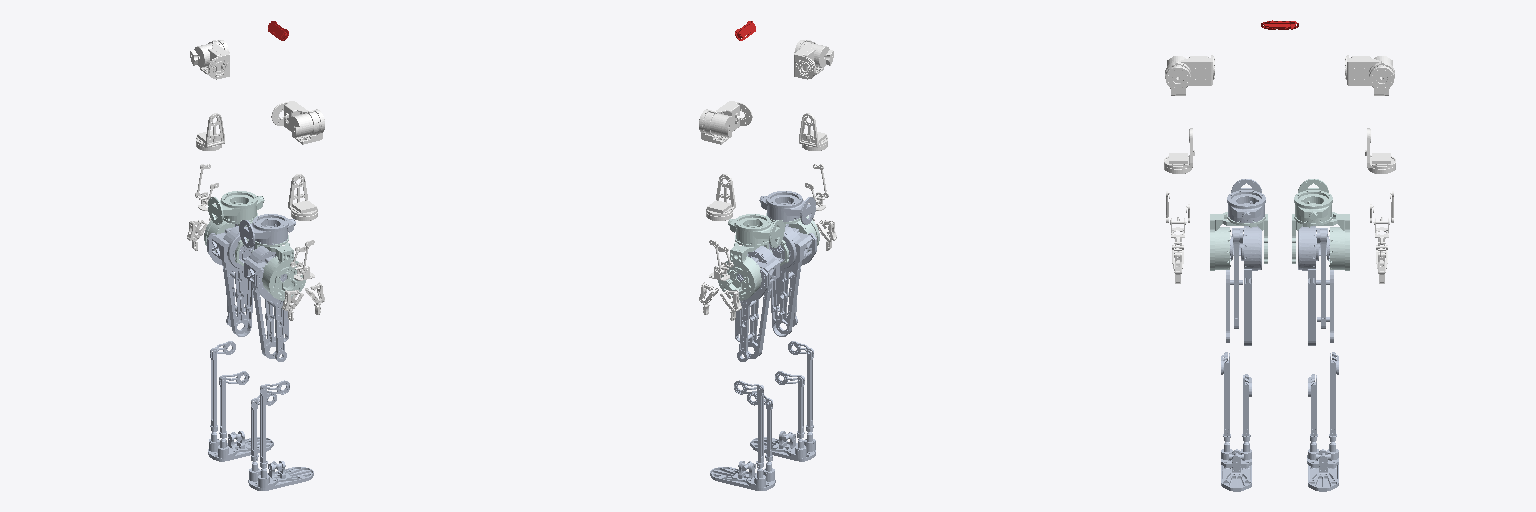
--- Render facts (derived) ---
The picture shows the robot from 3 angles, left to right: view 1: azimuth 30°, elevation 25°; view 2: azimuth 150°, elevation 25°; view 3: azimuth 270°, elevation 25°; orthographic projection.
Robot: kuavo — 44 links, 43 joints (42 continuous, 1 fixed); root link base_link; default pose: all joints at 0.
Links seen in each view (by area): view 1: l_leg_pitch, r_leg_pitch, r_leg_yaw, r_leg_roll, l_leg_roll, r_foot_roll, l_foot_roll, r_forearm_pitch, r_hand_pitch, r_arm_roll, r_arm_pitch, l_forearm_pitch (+1 smaller); view 2: r_leg_pitch, l_leg_pitch, l_leg_yaw, l_leg_roll, r_leg_roll, l_foot_roll, r_foot_roll, l_forearm_pitch, l_hand_pitch, l_arm_roll, l_arm_pitch, r_forearm_pitch (+1 smaller); view 3: l_leg_pitch, r_leg_pitch, r_leg_yaw, l_leg_yaw, l_leg_roll, r_leg_roll, l_foot_roll, r_foot_roll, l_arm_pitch, r_arm_pitch, l_arm_roll, r_arm_roll (+4 smaller).
Boxes of the visible links, x1=… form: l_leg_pitch: x1=207, y1=224, x2=258, y2=336; r_leg_pitch: x1=244, y1=246, x2=288, y2=361; r_leg_yaw: x1=251, y1=235, x2=305, y2=300; r_leg_roll: x1=239, y1=214, x2=295, y2=247; l_leg_roll: x1=208, y1=191, x2=264, y2=224; r_foot_roll: x1=248, y1=461, x2=313, y2=490; l_foot_roll: x1=208, y1=431, x2=273, y2=461; r_forearm_pitch: x1=288, y1=174, x2=317, y2=220; r_hand_pitch: x1=282, y1=262, x2=324, y2=320; r_arm_roll: x1=289, y1=109, x2=324, y2=144; r_arm_pitch: x1=271, y1=101, x2=319, y2=135; l_forearm_pitch: x1=196, y1=113, x2=224, y2=150; r_leg_pitch: x1=765, y1=224, x2=816, y2=336; l_leg_pitch: x1=735, y1=246, x2=779, y2=361; l_leg_yaw: x1=718, y1=235, x2=772, y2=300; l_leg_roll: x1=728, y1=214, x2=784, y2=247; r_leg_roll: x1=759, y1=191, x2=815, y2=224; l_foot_roll: x1=710, y1=461, x2=775, y2=490; r_foot_roll: x1=750, y1=431, x2=815, y2=461; l_forearm_pitch: x1=706, y1=174, x2=735, y2=220; l_hand_pitch: x1=699, y1=262, x2=741, y2=320; l_arm_roll: x1=699, y1=109, x2=734, y2=144; l_arm_pitch: x1=704, y1=101, x2=752, y2=135; r_forearm_pitch: x1=799, y1=113, x2=827, y2=150; l_leg_pitch: x1=1298, y1=226, x2=1333, y2=345; r_leg_pitch: x1=1226, y1=226, x2=1261, y2=345; r_leg_yaw: x1=1210, y1=212, x2=1267, y2=270; l_leg_yaw: x1=1292, y1=212, x2=1349, y2=270; l_leg_roll: x1=1294, y1=179, x2=1332, y2=222; r_leg_roll: x1=1227, y1=179, x2=1265, y2=222; l_foot_roll: x1=1307, y1=443, x2=1338, y2=491; r_foot_roll: x1=1221, y1=443, x2=1251, y2=491; l_arm_pitch: x1=1345, y1=55, x2=1394, y2=85; r_arm_pitch: x1=1165, y1=55, x2=1214, y2=85; l_arm_roll: x1=1369, y1=56, x2=1394, y2=95; r_arm_roll: x1=1165, y1=56, x2=1190, y2=95.
Bounding box of the posed robot: 0.1955 × 0.6029 × 1.33 m (x, y, z).
37 mesh visuals loaded from 44 distinct referenced files (37 binary STL); not drawn: 7 (reference not matched to a file when rendering).

robot.urdf — kuavo:
<?xml version="1.0" encoding="utf-8"?>
<!-- This URDF was automatically created by SolidWorks to URDF Exporter! Originally created by Stephen Brawner ([email redacted]) 
     Commit Version: 1.6.0-4-g7f85cfe  Build Version: 1.6.7995.38578
     For more information, please see http://wiki.ros.org/sw_urdf_exporter -->
<robot
  name="kuavo">
  <link
    name="base_link">
    <inertial>
      <origin
        xyz="-0.00699293960383802 0.00155633220268026 0.152865943474551"
        rpy="0 0 0" />
      <mass
        value="7.71324827879796" />
      <inertia
        ixx="0.0426865291658434"
        ixy="1.85724164379468E-06"
        ixz="0.0010941107421191"
        iyy="0.020412125396821"
        iyz="-3.14875771284261E-06"
        izz="0.0372747742844986" />
    </inertial>
    <visual>
      <origin
        xyz="0 0 0"
        rpy="0 0 0" />
      <geometry>
        <mesh
          filename="./meshes/base_link.STL" />
      </geometry>
      <material
        name="">
        <color
          rgba="0.862745098039216 0.933333333333333 0.929411764705882 1" />
      </material>
    </visual>
    <collision>
      <origin
        xyz="0 0 0"
        rpy="0 0 0" />
      <geometry>
        <mesh
          filename="./meshes/base_link.STL" />
      </geometry>
    </collision>
  </link>
  <link
    name="l_leg_roll">
    <inertial>
      <origin
        xyz="0.0607642758367597 0.00014034128720411 0.00228371917512799"
        rpy="0 0 0" />
      <mass
        value="0.118529537524385" />
      <inertia
        ixx="0.000100527370735922"
        ixy="-1.21001269445094E-09"
        ixz="-5.73994022636998E-06"
        iyy="0.000266846737510275"
        iyz="-1.09965529112337E-07"
        izz="0.000326428442604199" />
    </inertial>
    <visual>
      <origin
        xyz="0 0 0"
        rpy="0 0 0" />
      <geometry>
        <mesh
          filename="./meshes/l_leg_roll.STL" />
      </geometry>
      <material
        name="">
        <color
          rgba="0.862745098039216 0.933333333333333 0.929411764705882 1" />
      </material>
    </visual>
    <collision>
      <origin
        xyz="0 0 0"
        rpy="0 0 0" />
      <geometry>
        <mesh
          filename="./meshes/l_leg_roll.STL" />
      </geometry>
    </collision>
  </link>
  <joint
    name="l_leg_roll"
    type="continuous">
    <origin
      xyz="-0.0756149468145449 0.087 -0.0720754569616772"
      rpy="0 0 0" />
    <parent
      link="base_link" />
    <child
      link="l_leg_roll" />
    <axis
      xyz="-1 0 0" />
  </joint>
  <link
    name="l_leg_yaw">
    <inertial>
      <origin
        xyz="0.000290902697264877 0.0405087424467619 -0.100846923361789"
        rpy="0 0 0" />
      <mass
        value="0.20405278020544" />
      <inertia
        ixx="0.000304319732135481"
        ixy="6.81277324993593E-07"
        ixz="5.14353295201488E-07"
        iyy="0.000364082147695825"
        iyz="2.16417948537574E-06"
        izz="0.000267287713044087" />
    </inertial>
    <visual>
      <origin
        xyz="0 0 0"
        rpy="0 0 0" />
      <geometry>
        <mesh
          filename="./meshes/l_leg_yaw.STL" />
      </geometry>
      <material
        name="">
        <color
          rgba="0.862745098039216 0.933333333333333 0.929411764705882 1" />
      </material>
    </visual>
    <collision>
      <origin
        xyz="0 0 0"
        rpy="0 0 0" />
      <geometry>
        <mesh
          filename="./meshes/l_leg_yaw.STL" />
      </geometry>
    </collision>
  </link>
  <joint
    name="l_leg_yaw"
    type="continuous">
    <origin
      xyz="0.0735 0 0.0130000000000001"
      rpy="0 0 0" />
    <parent
      link="l_leg_roll" />
    <child
      link="l_leg_yaw" />
    <axis
      xyz="0 0 1" />
  </joint>
  <link
    name="l_leg_pitch">
    <inertial>
      <origin
        xyz="-0.00528235933691826 -0.0878849862537982 -0.056800998667162"
        rpy="0 0 0" />
      <mass
        value="0.45065011418642" />
      <inertia
        ixx="0.00148456678733155"
        ixy="-2.29184752662021E-05"
        ixz="0.000131476982175566"
        iyy="0.00177807990369305"
        iyz="7.48554604302084E-06"
        izz="0.000394925298656241" />
    </inertial>
    <visual>
      <origin
        xyz="0 0 0"
        rpy="0 0 0" />
      <geometry>
        <mesh
          filename="./meshes/l_leg_pitch.STL" />
      </geometry>
      <material
        name="">
        <color
          rgba="0.807843137254902 0.843137254901961 0.905882352941176 1" />
      </material>
    </visual>
    <collision>
      <origin
        xyz="0 0 0"
        rpy="0 0 0" />
      <geometry>
        <mesh
          filename="./meshes/l_leg_pitch.STL" />
      </geometry>
    </collision>
  </link>
  <joint
    name="l_leg_pitch"
    type="continuous">
    <origin
      xyz="0 0.0939999999999999 -0.13645"
      rpy="0 0 0" />
    <parent
      link="l_leg_yaw" />
    <child
      link="l_leg_pitch" />
    <axis
      xyz="0 -1 0" />
  </joint>
  <link
    name="l_knee">
    <inertial>
      <origin
        xyz="0.000868873637859806 -5.03011046766588E-05 -0.13314742049396"
        rpy="0 0 0" />
      <mass
        value="0.817175320465059" />
      <inertia
        ixx="0.00786383933470876"
        ixy="-3.13623718617422E-08"
        ixz="-7.89544117443064E-05"
        iyy="0.0081080818905141"
        iyz="-6.80654926871359E-05"
        izz="0.000441233410542845" />
    </inertial>
    <visual>
      <origin
        xyz="0 0 0"
        rpy="0 0 0" />
      <geometry>
        <mesh
          filename="./meshes/l_knee.STL" />
      </geometry>
      <material
        name="">
        <color
          rgba="0.898039215686275 0.917647058823529 0.929411764705882 1" />
      </material>
    </visual>
    <collision>
      <origin
        xyz="0 0 0"
        rpy="0 0 0" />
      <geometry>
        <mesh
          filename="./meshes/l_knee.STL" />
      </geometry>
    </collision>
  </link>
  <joint
    name="l_knee"
    type="continuous">
    <origin
      xyz="0.00413596009601052 -0.0686389599620252 -0.249965785326798"
      rpy="0 0 0" />
    <parent
      link="l_leg_pitch" />
    <child
      link="l_knee" />
    <axis
      xyz="0 1 0" />
  </joint>
  <link
    name="l_foot_pitch">
    <inertial>
      <origin
        xyz="-2.2094915482114E-07 -0.0210002209491548 0.000142421968554962"
        rpy="0 0 0" />
      <mass
        value="0.00898868764931505" />
      <inertia
        ixx="8.64757693496474E-07"
        ixy="4.38814003822459E-16"
        ixz="3.49395618884054E-11"
        iyy="8.64757693496479E-07"
        iyz="-3.54041160032427E-11"
        izz="1.52124214524266E-06" />
    </inertial>
    <visual>
      <origin
        xyz="0 0 0"
        rpy="0 0 0" />
      <geometry>
        <mesh
          filename="./meshes/l_foot_pitch.STL" />
      </geometry>
      <material
        name="">
        <color
          rgba="0.807843137254902 0.843137254901961 0.905882352941176 1" />
      </material>
    </visual>
    <collision>
      <origin
        xyz="0 0 0"
        rpy="0 0 0" />
      <geometry>
        <mesh
          filename="./meshes/l_foot_pitch.STL" />
      </geometry>
    </collision>
  </link>
  <joint
    name="l_foot_pitch"
    type="continuous">
    <origin
      xyz="9.39839333040909E-05 0.0209999999999999 -0.346142421968556"
      rpy="0 0 0" />
    <parent
      link="l_knee" />
    <child
      link="l_foot_pitch" />
    <axis
      xyz="0 -1 0" />
  </joint>
  <link
    name="l_foot_roll">
    <inertial>
      <origin
        xyz="-0.0432253086252035 -8.83109141272542E-06 -0.0231900309646781"
        rpy="0 0 0" />
      <mass
        value="0.48595336841054" />
      <inertia
        ixx="0.000157873471834251"
        ixy="1.96472635084532E-08"
        ixz="2.65605381022489E-06"
        iyy="0.000645275398662566"
        iyz="1.31456982241222E-08"
        izz="0.000765587215075718" />
    </inertial>
    <visual>
      <origin
        xyz="0 0 0"
        rpy="0 0 0" />
      <geometry>
        <mesh
          filename="./meshes/l_foot_roll.STL" />
      </geometry>
      <material
        name="">
        <color
          rgba="0.807843137254902 0.843137254901961 0.905882352941176 1" />
      </material>
    </visual>
    <collision>
      <origin
        xyz="0 0 0"
        rpy="0 0 0" />
      <geometry>
        <mesh
          filename="./meshes/l_foot_roll.STL" />
      </geometry>
    </collision>
  </link>
  <joint
    name="l_foot_roll"
    type="continuous">
    <origin
      xyz="0.021 -0.021 0.000142421968555073"
      rpy="0 0 0" />
    <parent
      link="l_foot_pitch" />
    <child
      link="l_foot_roll" />
    <axis
      xyz="-1 0 0" />
  </joint>
  <link
    name="l_l_bar">
    <inertial>
      <origin
        xyz="-0.0181620534088889 0.00538550541831453 0.00188897487292894"
        rpy="0 0 0" />
      <mass
        value="0.00874829869457794" />
      <inertia
        ixx="1.10769540266514E-06"
        ixy="-5.91415258727675E-07"
        ixz="4.29488265882082E-07"
        iyy="5.99983084859914E-06"
        iyz="6.15112516111373E-08"
        izz="5.19245227970593E-06" />
    </inertial>
    <visual>
      <origin
        xyz="0 0 0"
        rpy="0 0 0" />
      <geometry>
        <mesh
          filename="./meshes/l_l_bar.STL" />
      </geometry>
      <material
        name="">
        <color
          rgba="0.807843137254902 0.843137254901961 0.905882352941176 1" />
      </material>
    </visual>
    <collision>
      <origin
        xyz="0 0 0"
        rpy="0 0 0" />
      <geometry>
        <mesh
          filename="./meshes/l_l_bar.STL" />
      </geometry>
    </collision>
  </link>
  <joint
    name="l_l_bar"
    type="continuous">
    <origin
      xyz="9.39839333040753E-05 0.0294999999999999 -0.090000000000001"
      rpy="0 0 0" />
    <parent
      link="l_knee" />
    <child
      link="l_l_bar" />
    <axis
      xyz="0 -1 0" />
  </joint>
  <link
    name="l_l_tendon">
    <inertial>
      <origin
        xyz="0.00118321709757755 3.75294202364929E-06 -0.20744528844336"
        rpy="0 0 0" />
      <mass
        value="0.083522124317674" />
      <inertia
        ixx="0.000108457869310121"
        ixy="6.02846811569308E-13"
        ixz="3.21348766559881E-09"
        iyy="0.000108256478541275"
        iyz="-5.12951685911342E-08"
        izz="3.33663310062301E-06" />
    </inertial>
    <visual>
      <origin
        xyz="0 0 0"
        rpy="0 0 0" />
      <geometry>
        <mesh
          filename="./meshes/l_l_tendon.STL" />
      </geometry>
      <material
        name="">
        <color
          rgba="0.807843137254902 0.843137254901961 0.905882352941176 1" />
      </material>
    </visual>
    <collision>
      <origin
        xyz="0 0 0"
        rpy="0 0 0" />
      <geometry>
        <mesh
          filename="./meshes/l_l_tendon.STL" />
      </geometry>
    </collision>
  </link>
  <joint
    name="l_l_tendon"
    type="continuous">
    <origin
      xyz="-0.0576888204074241 -0.00450000000000017 0.00599999999999978"
      rpy="0 0 0" />
    <parent
      link="l_l_bar" />
    <child
      link="l_l_tendon" />
    <axis
      xyz="0 1 0" />
  </joint>
  <link
    name="l_r_bar">
    <inertial>
      <origin
        xyz="-0.0181620475591471 -0.00340146093872844 0.00188896088462942"
        rpy="0 0 0" />
      <mass
        value="0.00874829655091912" />
      <inertia
        ixx="1.10769463312904E-06"
        ixy="5.9141495517061E-07"
        ixz="4.29484605237304E-07"
        iyy="5.99982880791329E-06"
        iyz="-6.15105156434383E-08"
        izz="5.19245102488259E-06" />
    </inertial>
    <visual>
      <origin
        xyz="0 0 0"
        rpy="0 0 0" />
      <geometry>
        <mesh
          filename="./meshes/l_r_bar.STL" />
      </geometry>
      <material
        name="">
        <color
          rgba="0.807843137254902 0.843137254901961 0.905882352941176 1" />
      </material>
    </visual>
    <collision>
      <origin
        xyz="0 0 0"
        rpy="0 0 0" />
      <geometry>
        <mesh
          filename="./meshes/l_r_bar.STL" />
      </geometry>
    </collision>
  </link>
  <joint
    name="l_r_bar"
    type="continuous">
    <origin
      xyz="9.39839333042539E-05 -0.0295 -0.153000000000001"
      rpy="0 0 0" />
    <parent
      link="l_knee" />
    <child
      link="l_r_bar" />
    <axis
      xyz="0 1 0" />
  </joint>
  <link
    name="l_r_tendon">
    <inertial>
      <origin
        xyz="0.00127016481106113 -0.000442399471844768 -0.157756039462114"
        rpy="0 0 0" />
      <mass
        value="0.0780668768936421" />
      <inertia
        ixx="4.62186588509114E-05"
        ixy="-1.94286496924929E-08"
        ixz="-2.70858374718146E-09"
        iyy="4.61278857103081E-05"
        iyz="3.66611708941701E-08"
        izz="3.1548728466647E-06" />
    </inertial>
    <visual>
      <origin
        xyz="0 0 0"
        rpy="0 0 0" />
      <geometry>
        <mesh
          filename="./meshes/l_r_tendon.STL" />
      </geometry>
      <material
        name="">
        <color
          rgba="0.807843137254902 0.843137254901961 0.905882352941176 1" />
      </material>
    </visual>
    <collision>
      <origin
        xyz="0 0 0"
        rpy="0 0 0" />
      <geometry>
        <mesh
          filename="./meshes/l_r_tendon.STL" />
      </geometry>
    </collision>
  </link>
  <joint
    name="l_r_tendon"
    type="continuous">
    <origin
      xyz="-0.0576888204074239 0.00508602348130947 0.00600000000000012"
      rpy="0 0 0" />
    <parent
      link="l_r_bar" />
    <child
      link="l_r_tendon" />
    <axis
      xyz="0 -1 0" />
  </joint>
  <link
    name="r_leg_roll">
    <inertial>
      <origin
        xyz="0.0607646044341523 -0.000140365546816248 0.00228377101431822"
        rpy="0 0 0" />
      <mass
        value="0.11853067519234" />
      <inertia
        ixx="0.000100528224800769"
        ixy="8.59267223920867E-10"
        ixz="-5.7400764839374E-06"
        iyy="0.000266849167485496"
        iyz="1.09990636769441E-07"
        izz="0.000326431795353994" />
    </inertial>
    <visual>
      <origin
        xyz="0 0 0"
        rpy="0 0 0" />
      <geometry>
        <mesh
          filename="./meshes/r_leg_roll.STL" />
      </geometry>
      <material
        name="">
        <color
          rgba="0.807843137254902 0.843137254901961 0.905882352941176 1" />
      </material>
    </visual>
    <collision>
      <origin
        xyz="0 0 0"
        rpy="0 0 0" />
      <geometry>
        <mesh
          filename="./meshes/r_leg_roll.STL" />
      </geometry>
    </collision>
  </link>
  <joint
    name="r_leg_roll"
    type="continuous">
    <origin
      xyz="-0.0756149468145449 -0.087 -0.0720754569616772"
      rpy="0 0 0" />
    <parent
      link="base_link" />
    <child
      link="r_leg_roll" />
    <axis
      xyz="-1 0 0" />
  </joint>
  <link
    name="r_leg_yaw">
    <inertial>
      <origin
        xyz="0.000290901694932051 -0.0405086843275825 -0.100847259224443"
        rpy="0 0 0" />
      <mass
        value="0.204051628397563" />
      <inertia
        ixx="0.000304316594072443"
        ixy="-6.81313422907994E-07"
        ixz="5.14348465322562E-07"
        iyy="0.000364082222889467"
        iyz="-2.16425891305065E-06"
        izz="0.000267284560559922" />
    </inertial>
    <visual>
      <origin
        xyz="0 0 0"
        rpy="0 0 0" />
      <geometry>
        <mesh
          filename="./meshes/r_leg_yaw.STL" />
      </geometry>
      <material
        name="">
        <color
          rgba="0.862745098039216 0.933333333333333 0.929411764705882 1" />
      </material>
    </visual>
    <collision>
      <origin
        xyz="0 0 0"
        rpy="0 0 0" />
      <geometry>
        <mesh
          filename="./meshes/r_leg_yaw.STL" />
      </geometry>
    </collision>
  </link>
  <joint
    name="r_leg_yaw"
    type="continuous">
    <origin
      xyz="0.0735 0 0.0130000000000001"
      rpy="0 0 0" />
    <parent
      link="r_leg_roll" />
    <child
      link="r_leg_yaw" />
    <axis
      xyz="0 0 1" />
  </joint>
  <link
    name="r_leg_pitch">
    <inertial>
      <origin
        xyz="-0.00530844800069375 0.0879625104980525 -0.0562054035446188"
        rpy="0 0 0" />
      <mass
        value="0.448539615819603" />
      <inertia
        ixx="0.00148436919411102"
        ixy="2.29187023974564E-05"
        ixz="0.000131477003903541"
        iyy="0.00177802513573774"
        iyz="-7.48524907415416E-06"
        izz="0.000394727717573666" />
    </inertial>
    <visual>
      <origin
        xyz="0 0 0"
        rpy="0 0 0" />
      <geometry>
        <mesh
          filename="./meshes/r_leg_pitch.STL" />
      </geometry>
      <material
        name="">
        <color
          rgba="0.807843137254902 0.843137254901961 0.905882352941176 1" />
      </material>
    </visual>
    <collision>
      <origin
        xyz="0 0 0"
        rpy="0 0 0" />
      <geometry>
        <mesh
          filename="./meshes/r_leg_pitch.STL" />
      </geometry>
    </collision>
  </link>
  <joint
    name="r_leg_pitch"
    type="continuous">
    <origin
      xyz="0 -0.094 -0.13645"
      rpy="0 0 0" />
    <parent
      link="r_leg_yaw" />
    <child
      link="r_leg_pitch" />
    <axis
      xyz="0 -1 0" />
  </joint>
  <link
    name="r_knee">
    <inertial>
      <origin
        xyz="0.000566315767979653 -0.000357175271787927 -0.138852368476045"
        rpy="0 0 0" />
      <mass
        value="0.345443991337626" />
      <inertia
        ixx="0.00281310613866549"
        ixy="1.11070732712115E-08"
        ixz="-2.80899108975025E-05"
        iyy="0.00291126127187274"
        iyz="2.42218525823218E-05"
        izz="0.000171958211692171" />
    </inertial>
    <visual>
      <origin
        xyz="0 0 0"
        rpy="0 0 0" />
      <geometry>
        <mesh
          filename="./meshes/r_knee.STL" />
      </geometry>
      <material
        name="">
        <color
          rgba="0.807843137254902 0.843137254901961 0.905882352941176 1" />
      </material>
    </visual>
    <collision>
      <origin
        xyz="0 0 0"
        rpy="0 0 0" />
      <geometry>
        <mesh
          filename="./meshes/r_knee.STL" />
      </geometry>
    </collision>
  </link>
  <joint
    name="r_knee"
    type="continuous">
    <origin
      xyz="0.00413596009601069 0.0685500000000013 -0.249965785326798"
      rpy="0 0 0" />
    <parent
      link="r_leg_pitch" />
    <child
      link="r_knee" />
    <axis
      xyz="0 -1 0" />
  </joint>
  <link
    name="r_foot_pitch">
    <inertial>
      <origin
        xyz="-2.20949154776037E-07 0.0210002209491547 -1.11022302462516E-16"
        rpy="0 0 0" />
      <mass
        value="0.00898868764931501" />
      <inertia
        ixx="8.64757693496473E-07"
        ixy="-4.38813261088375E-16"
        ixz="-3.4939561888581E-11"
        iyy="8.64757693496477E-07"
        iyz="-3.44750077743079E-11"
        izz="1.52124214524266E-06" />
    </inertial>
    <visual>
      <origin
        xyz="0 0 0"
        rpy="0 0 0" />
      <geometry>
        <mesh
          filename="./meshes/r_foot_pitch.STL" />
      </geometry>
      <material
        name="">
        <color
          rgba="0.807843137254902 0.843137254901961 0.905882352941176 1" />
      </material>
    </visual>
    <collision>
      <origin
        xyz="0 0 0"
        rpy="0 0 0" />
      <geometry>
        <mesh
          filename="./meshes/r_foot_pitch.STL" />
      </geometry>
    </collision>
  </link>
  <joint
    name="r_foot_pitch"
    type="continuous">
    <origin
      xyz="0 -0.021 -0.346000000000001"
      rpy="0 0 0" />
    <parent
      link="r_knee" />
    <child
      link="r_foot_pitch" />
    <axis
      xyz="0 -1 0" />
  </joint>
  <link
    name="r_foot_roll">
    <inertial>
      <origin
        xyz="-0.0480333310327909 6.50581714088661E-06 -0.0208399753329805"
        rpy="0 0 0" />
      <mass
        value="0.235882377040623" />
      <inertia
        ixx="7.44704948330087E-05"
        ixy="-1.32306351261624E-08"
        ixz="2.64137221389746E-06"
        iyy="0.000241939144027172"
        iyz="-4.67780047970378E-09"
        izz="0.000291936005980864" />
    </inertial>
    <visual>
      <origin
        xyz="0 0 0"
        rpy="0 0 0" />
      <geometry>
        <mesh
          filename="./meshes/r_foot_roll.STL" />
      </geometry>
      <material
        name="">
        <color
          rgba="0.807843137254902 0.843137254901961 0.905882352941176 1" />
      </material>
    </visual>
    <collision>
      <origin
        xyz="0 0 0"
        rpy="0 0 0" />
      <geometry>
        <mesh
          filename="./meshes/r_foot_roll.STL" />
      </geometry>
    </collision>
  </link>
  <joint
    name="r_foot_roll"
    type="continuous">
    <origin
      xyz="0.021 0.0209999999999999 0"
      rpy="0 0 0" />
    <parent
      link="r_foot_pitch" />
    <child
      link="r_foot_roll" />
    <axis
      xyz="-1 0 0" />
  </joint>
  <link
    name="r_r_bar">
    <inertial>
      <origin
        xyz="-0.0181620509501376 -0.0054502400147324 0.00188897513882791"
        rpy="0 0 0" />
      <mass
        value="0.00874829774758129" />
      <inertia
        ixx="1.10769527904973E-06"
        ixy="5.91415050956591E-07"
        ixz="4.29488315443609E-07"
        iyy="5.99983036821144E-06"
        iyz="-6.15112771413719E-08"
        izz="5.19245168309842E-06" />
    </inertial>
    <visual>
      <origin
        xyz="0 0 0"
        rpy="0 0 0" />
      <geometry>
        <mesh
          filename="./meshes/r_r_bar.STL" />
      </geometry>
      <material
        name="">
        <color
          rgba="0.807843137254902 0.843137254901961 0.905882352941176 1" />
      </material>
    </visual>
    <collision>
      <origin
        xyz="0 0 0"
        rpy="0 0 0" />
      <geometry>
        <mesh
          filename="./meshes/r_r_bar.STL" />
      </geometry>
    </collision>
  </link>
  <joint
    name="r_r_bar"
    type="continuous">
    <origin
      xyz="0 -0.0294999999999999 -0.0900000000000002"
      rpy="0 0 0" />
    <parent
      link="r_knee" />
    <child
      link="r_r_bar" />
    <axis
      xyz="0 -1 0" />
  </joint>
  <link
    name="r_r_tendon">
    <inertial>
      <origin
        xyz="0.000958289233327532 -8.67055798317584E-06 -0.188485184943548"
        rpy="0 0 0" />
      <mass
        value="0.053802691494778" />
      <inertia
        ixx="0.000105952067897388"
        ixy="-6.66037719249754E-13"
        ixz="3.21302195385029E-09"
        iyy="0.000105645697160704"
        iyz="5.12952984445406E-08"
        izz="2.0950392625887E-06" />
    </inertial>
    <visual>
      <origin
        xyz="0 0 0"
        rpy="0 0 0" />
      <geometry>
        <mesh
          filename="./meshes/r_r_tendon.STL" />
      </geometry>
      <material
        name="">
        <color
          rgba="0.807843137254902 0.843137254901961 0.905882352941176 1" />
      </material>
    </visual>
    <collision>
      <origin
        xyz="0 0 0"
        rpy="0 0 0" />
      <geometry>
        <mesh
          filename="./meshes/r_r_tendon.STL" />
      </geometry>
    </collision>
  </link>
  <joint
    name="r_r_tendon"
    type="continuous">
    <origin
      xyz="-0.0576888204074261 0.00450000000000034 0.00599999999999878"
      rpy="0 0 0" />
    <parent
      link="r_r_bar" />
    <child
      link="r_r_tendon" />
    <axis
      xyz="0 1 0" />
  </joint>
  <link
    name="r_l_bar">
    <inertial>
      <origin
        xyz="-0.018162043904016 0.00326676157003555 0.00188895977905879"
        rpy="0 0 0" />
      <mass
        value="0.00874829521108898" />
      <inertia
        ixx="1.10769435536613E-06"
        ixy="-5.91414611386556E-07"
        ixz="4.29484364884761E-07"
        iyy="5.99982796081405E-06"
        iyz="6.15104069682222E-08"
        izz="5.19245005096644E-06" />
    </inertial>
    <visual>
      <origin
        xyz="0 0 0"
        rpy="0 0 0" />
      <geometry>
        <mesh
          filename="./meshes/r_l_bar.STL" />
      </geometry>
      <material
        name="">
        <color
          rgba="0.807843137254902 0.843137254901961 0.905882352941176 1" />
      </material>
    </visual>
    <collision>
      <origin
        xyz="0 0 0"
        rpy="0 0 0" />
      <geometry>
        <mesh
          filename="./meshes/r_l_bar.STL" />
      </geometry>
    </collision>
  </link>
  <joint
    name="r_l_bar"
    type="continuous">
    <origin
      xyz="0 0.0294999999999999 -0.153000000000001"
      rpy="0 0 0" />
    <parent
      link="r_knee" />
    <child
      link="r_l_bar" />
    <axis
      xyz="0 -1 0" />
  </joint>
  <link
    name="r_l_tendon">
    <inertial>
      <origin
        xyz="0.00106510158954519 9.64944022313619E-06 -0.144838777247632"
        rpy="0 0 0" />
      <mass
        value="0.0483474436719092" />
      <inertia
        ixx="4.37091223763635E-05"
        ixy="-9.08749132597724E-13"
        ixz="-2.70856208055644E-09"
        iyy="4.35208260635416E-05"
        iyz="-3.66615376299583E-08"
        izz="1.91327900390017E-06" />
    </inertial>
    <visual>
      <origin
        xyz="0 0 0"
        rpy="0 0 0" />
      <geometry>
        <mesh
          filename="./meshes/r_l_tendon.STL" />
      </geometry>
      <material
        name="">
        <color
          rgba="0.807843137254902 0.843137254901961 0.905882352941176 1" />
      </material>
    </visual>
    <collision>
      <origin
        xyz="0 0 0"
        rpy="0 0 0" />
      <geometry>
        <mesh
          filename="./meshes/r_l_tendon.STL" />
      </geometry>
    </collision>
  </link>
  <joint
    name="r_l_tendon"
    type="continuous">
    <origin
      xyz="-0.0576888204074239 -0.00449999999999988 0.00600000000000001"
      rpy="0 0 0" />
    <parent
      link="r_l_bar" />
    <child
      link="r_l_tendon" />
    <axis
      xyz="0 1 0" />
  </joint>
  <link
    name="l_arm_pitch">
    <inertial>
      <origin
        xyz="0.0214306014937492 0.0894803474436048 0.000615912525740503"
        rpy="0 0 0" />
      <mass
        value="0.0855565384250596" />
      <inertia
        ixx="0.000130680980046145"
        ixy="-2.8051476508872E-05"
        ixz="-4.43154983770371E-08"
        iyy="6.72732423481097E-05"
        iyz="-1.04235209424077E-06"
        izz="0.000113833719965484" />
    </inertial>
    <visual>
      <origin
        xyz="0 0 0"
        rpy="0 0 0" />
      <geometry>
        <mesh
          filename="./meshes/l_arm_pitch.STL" />
      </geometry>
      <material
        name="">
        <color
          rgba="1 1 1 1" />
      </material>
    </visual>
    <collision>
      <origin
        xyz="0 0 0"
        rpy="0 0 0" />
      <geometry>
        <mesh
          filename="./meshes/l_arm_pitch.STL" />
      </geometry>
    </collision>
  </link>
  <joint
    name="l_arm_pitch"
    type="continuous">
    <origin
      xyz="-0.0174998525199999 0.121 0.3145"
      rpy="0 0 0" />
    <parent
      link="base_link" />
    <child
      link="l_arm_pitch" />
    <axis
      xyz="0 1 0" />
  </joint>
  <link
    name="l_arm_roll">
    <inertial>
      <origin
        xyz="-0.035737115963316 0.000637394005623571 -0.00293587457508399"
        rpy="0 0 0" />
      <mass
        value="0.243859089022774" />
      <inertia
        ixx="0.000128360157970662"
        ixy="6.10295766830323E-06"
        ixz="-1.04763903813656E-05"
        iyy="0.000190119380770336"
        iyz="1.1072652385836E-06"
        izz="0.000178903820792462" />
    </inertial>
    <visual>
      <origin
        xyz="0 0 0"
        rpy="0 0 0" />
      <geometry>
        <mesh
          filename="./meshes/l_arm_roll.STL" />
      </geometry>
      <material
        name="">
        <color
          rgba="1 1 1 1" />
      </material>
    </visual>
    <collision>
      <origin
        xyz="0 0 0"
        rpy="0 0 0" />
      <geometry>
        <mesh
          filename="./meshes/l_arm_roll.STL" />
      </geometry>
    </collision>
  </link>
  <joint
    name="l_arm_roll"
    type="continuous">
    <origin
      xyz="0.0638750000000005 0.143475 0"
      rpy="0 0 0" />
    <parent
      link="l_arm_pitch" />
    <child
      link="l_arm_roll" />
    <axis
      xyz="-1 0 0" />
  </joint>
  <link
    name="l_arm_yaw">
    <inertial>
      <origin
        xyz="-0.000196754553523828 -0.00200221985054488 -0.0822363960198868"
        rpy="0 0 0" />
      <mass
        value="0.231645925727573" />
      <inertia
        ixx="7.15763821808342E-05"
        ixy="-7.20357840527445E-07"
        ixz="1.2879634524044E-07"
        iyy="0.000116064001916274"
        iyz="-3.24539663479111E-06"
        izz="0.000102450224641922" />
    </inertial>
    <visual>
      <origin
        xyz="0 0 0"
        rpy="0 0 0" />
      <geometry>
        <mesh
          filename="./meshes/l_arm_yaw.STL" />
      </geometry>
      <material
        name="">
        <color
          rgba="1 1 1 1" />
      </material>
    </visual>
    <collision>
      <origin
        xyz="0 0 0"
        rpy="0 0 0" />
      <geometry>
        <mesh
          filename="./meshes/l_arm_yaw.STL" />
      </geometry>
    </collision>
  </link>
  <joint
    name="l_arm_yaw"
    type="continuous">
    <origin
      xyz="-0.0436732904500001 -0.000228544867618807 -0.0507499999999994"
      rpy="0 0 0" />
    <parent
      link="l_arm_roll" />
    <child
      link="l_arm_yaw" />
    <axis
      xyz="0 0.0045033014816499 0.999989860086474" />
  </joint>
  <link
    name="l_forearm_pitch">
    <inertial>
      <origin
        xyz="-1.76621857590764E-09 0.0247675246684128 -0.070263864959373"
        rpy="0 0 0" />
      <mass
        value="0.100717925891199" />
      <inertia
        ixx="6.81753177964767E-05"
        ixy="-1.3166203212202E-12"
        ixz="-2.01946859234465E-12"
        iyy="6.38358674774755E-05"
        iyz="1.22265699624491E-05"
        izz="7.39768830554407E-05" />
    </inertial>
    <visual>
      <origin
        xyz="0 0 0"
        rpy="0 0 0" />
      <geometry>
        <mesh
          filename="./meshes/l_forearm_pitch.STL" />
      </geometry>
      <material
        name="">
        <color
          rgba="1 1 1 1" />
      </material>
    </visual>
    <collision>
      <origin
        xyz="0 0 0"
        rpy="0 0 0" />
      <geometry>
        <mesh
          filename="./meshes/l_forearm_pitch.STL" />
      </geometry>
    </collision>
  </link>
  <joint
    name="l_forearm_pitch"
    type="continuous">
    <origin
      xyz="0 -0.0300214551323814 -0.1357"
      rpy="0 0 0" />
    <parent
      link="l_arm_yaw" />
    <child
      link="l_forearm_pitch" />
    <axis
      xyz="0 1 0" />
  </joint>
  <link
    name="l_forearm_yaw">
    <inertial>
      <origin
        xyz="-0.00399570091504528 2.98471488309193E-05 -0.0656133809823523"
        rpy="0 0 0" />
      <mass
        value="0.156174407901059" />
      <inertia
        ixx="7.01872239868571E-05"
        ixy="-1.62696734264376E-07"
        ixz="-4.54392258182991E-07"
        iyy="7.29165229929418E-05"
        iyz="-7.2325873682261E-09"
        izz="6.87979464480365E-05" />
    </inertial>
    <visual>
      <origin
        xyz="0 0 0"
        rpy="0 0 0" />
      <geometry>
        <mesh
          filename="./meshes/l_forearm_yaw.STL" />
      </geometry>
      <material
        name="">
        <color
          rgba="1 1 1 1" />
      </material>
    </visual>
    <collision>
      <origin
        xyz="0 0 0"
        rpy="0 0 0" />
      <geometry>
        <mesh
          filename="./meshes/l_forearm_yaw.STL" />
      </geometry>
    </collision>
  </link>
  <joint
    name="l_forearm_yaw"
    type="continuous">
    <origin
      xyz="0 0.0302500000000002 -0.0915499999999999"
      rpy="0 0 0" />
    <parent
      link="l_forearm_pitch" />
    <child
      link="l_forearm_yaw" />
    <axis
      xyz="0 0 -1" />
  </joint>
  <link
    name="l_hand_roll">
    <inertial>
      <origin
        xyz="0.0166010838376317 1.21699082866744E-07 1.73724289204147E-07"
        rpy="0 0 0" />
      <mass
        value="0.00225080087545489" />
      <inertia
        ixx="1.93486939049626E-07"
        ixy="1.34751407910019E-12"
        ixz="-9.12379114183907E-13"
        iyy="1.3659940311531E-07"
        iyz="2.34311788925342E-12"
        izz="3.17250990444323E-07" />
    </inertial>
    <visual>
      <origin
        xyz="0 0 0"
        rpy="0 0 0" />
      <geometry>
        <mesh
          filename="./meshes/l_hand_roll.STL" />
      </geometry>
      <material
        name="">
        <color
          rgba="1 1 1 1" />
      </material>
    </visual>
    <collision>
      <origin
        xyz="0 0 0"
        rpy="0 0 0" />
      <geometry>
        <mesh
          filename="./meshes/l_hand_roll.STL" />
      </geometry>
    </collision>
  </link>
  <joint
    name="l_hand_roll"
    type="continuous">
    <origin
      xyz="-0.025322 0 -0.1575"
      rpy="0 0 0" />
    <parent
      link="l_forearm_yaw" />
    <child
      link="l_hand_roll" />
    <axis
      xyz="-1 0 0" />
  </joint>
  <link
    name="l_hand_pitch">
    <inertial>
      <origin
        xyz="0.00216452934621551 -6.77719551251399E-05 -0.0859772405742664"
        rpy="0 0 0" />
      <mass
        value="0.0531311255846087" />
      <inertia
        ixx="1.140633456061E-05"
        ixy="-1.76559662166693E-10"
        ixz="2.91544414425806E-07"
        iyy="1.10990606835989E-05"
        iyz="-7.83300192322812E-10"
        izz="8.19218367742265E-06" />
    </inertial>
    <visual>
      <origin
        xyz="0 0 0"
        rpy="0 0 0" />
      <geometry>
        <mesh
          filename="./meshes/l_hand_pitch.STL" />
      </geometry>
      <material
        name="">
        <color
          rgba="1 1 1 1" />
      </material>
    </visual>
    <collision>
      <origin
        xyz="0 0 0"
        rpy="0 0 0" />
      <geometry>
        <mesh
          filename="./meshes/l_hand_pitch.STL" />
      </geometry>
    </collision>
  </link>
  <joint
    name="l_hand_pitch"
    type="continuous">
    <origin
      xyz="0.02137 0 0"
      rpy="0 0 0" />
    <parent
      link="l_hand_roll" />
    <child
      link="l_hand_pitch" />
    <axis
      xyz="-1 0 0" />
  </joint>
  <link
    name="l_l_arm_bar">
    <inertial>
      <origin
        xyz="-0.00554151988939612 -0.00107110718268377 8.01142280862713E-05"
        rpy="0 0 0" />
      <mass
        value="0.000933425350872019" />
      <inertia
        ixx="1.3843779735052E-08"
        ixy="5.67273670990801E-09"
        ixz="5.77608583056801E-10"
        iyy="6.06871251723769E-08"
        iyz="-8.20112615845596E-11"
        izz="5.37887818257275E-08" />
    </inertial>
    <visual>
      <origin
        xyz="0 0 0"
        rpy="0 0 0" />
      <geometry>
        <mesh
          filename="./meshes/l_l_arm_bar.STL" />
      </geometry>
      <material
        name="">
        <color
          rgba="1 1 1 1" />
      </material>
    </visual>
    <collision>
      <origin
        xyz="0 0 0"
        rpy="0 0 0" />
      <geometry>
        <mesh
          filename="./meshes/l_l_arm_bar.STL" />
      </geometry>
    </collision>
  </link>
  <joint
    name="l_l_arm_bar"
    type="continuous">
    <origin
      xyz="0.011299999998424 0.024140000000002 -0.0759999999999971"
      rpy="0 0 0" />
    <parent
      link="l_forearm_yaw" />
    <child
      link="l_l_arm_bar" />
    <axis
      xyz="0 -1 0" />
  </joint>
  <link
    name="l_l_arm_tendon">
    <inertial>
      <origin
        xyz="-0.00762563841089457 -0.000122279190808594 -0.0407419941889383"
        rpy="0 0 0" />
      <mass
        value="0.00374681809424582" />
      <inertia
        ixx="2.52757930323661E-06"
        ixy="-7.66111459785821E-10"
        ixz="-4.64401918338811E-07"
        iyy="2.64303514729516E-06"
        iyz="-4.31242332569496E-09"
        izz="1.3308429935593E-07" />
    </inertial>
    <visual>
      <origin
        xyz="0 0 0"
        rpy="0 0 0" />
      <geometry>
        <mesh
          filename="./meshes/l_l_arm_tendon.STL" />
      </geometry>
      <material
        name="">
        <color
          rgba="1 1 1 1" />
      </material>
    </visual>
    <collision>
      <origin
        xyz="0 0 0"
        rpy="0 0 0" />
      <geometry>
        <mesh
          filename="./meshes/l_l_arm_tendon.STL" />
      </geometry>
    </collision>
  </link>
  <joint
    name="l_l_arm_tendon"
    type="continuous">
    <origin
      xyz="-0.0159983282022835 0.0040000013363603 0.000231289282113974"
      rpy="0 0 0" />
    <parent
      link="l_l_arm_bar" />
    <child
      link="l_l_arm_tendon" />
    <axis
      xyz="0 1 0" />
  </joint>
  <link
    name="l_r_arm_bar">
    <inertial>
      <origin
        xyz="-0.00554152091378026 0.00107110716137979 8.00466218583845E-05"
        rpy="0 0 0" />
      <mass
        value="0.00093342533722621" />
      <inertia
        ixx="1.38437655830521E-08"
        ixy="-5.67273763127159E-09"
        ixz="5.77122731416829E-10"
        iyy="6.06871249427678E-08"
        iyz="8.19421766658822E-11"
        izz="5.37887956605657E-08" />
    </inertial>
    <visual>
      <origin
        xyz="0 0 0"
        rpy="0 0 0" />
      <geometry>
        <mesh
          filename="./meshes/l_r_arm_bar.STL" />
      </geometry>
      <material
        name="">
        <color
          rgba="1 1 1 1" />
      </material>
    </visual>
    <collision>
      <origin
        xyz="0 0 0"
        rpy="0 0 0" />
      <geometry>
        <mesh
          filename="./meshes/l_r_arm_bar.STL" />
      </geometry>
    </collision>
  </link>
  <joint
    name="l_r_arm_bar"
    type="continuous">
    <origin
      xyz="0.011300000004892 -0.024139999999997 -0.1145"
      rpy="0 0 0" />
    <parent
      link="l_forearm_yaw" />
    <child
      link="l_r_arm_bar" />
    <axis
      xyz="0 1 0" />
  </joint>
  <link
    name="l_r_arm_tendon">
    <inertial>
      <origin
        xyz="-0.00762833305911307 0.000142795973133963 -0.021488685180072"
        rpy="0 0 0" />
      <mass
        value="0.00269247094438198" />
      <inertia
        ixx="5.94953509692986E-07"
        ixy="9.09691856035781E-10"
        ixz="-1.9636524665428E-07"
        iyy="6.93164854255937E-07"
        iyz="1.78985741267607E-09"
        izz="1.11074492400416E-07" />
    </inertial>
    <visual>
      <origin
        xyz="0 0 0"
        rpy="0 0 0" />
      <geometry>
        <mesh
          filename="./meshes/l_r_arm_tendon.STL" />
      </geometry>
      <material
        name="">
        <color
          rgba="1 1 1 1" />
      </material>
    </visual>
    <collision>
      <origin
        xyz="0 0 0"
        rpy="0 0 0" />
      <geometry>
        <mesh
          filename="./meshes/l_r_arm_tendon.STL" />
      </geometry>
    </collision>
  </link>
  <joint
    name="l_r_arm_tendon"
    type="continuous">
    <origin
      xyz="-0.0159983310229197 -0.00400002806712421 0.000231094095741222"
      rpy="0 0 0" />
    <parent
      link="l_r_arm_bar" />
    <child
      link="l_r_arm_tendon" />
    <axis
      xyz="0 -1 0" />
  </joint>
  <link
    name="r_arm_pitch">
    <inertial>
      <origin
        xyz="0.0214306041026405 -0.0844803465442086 0.00061581470811356"
        rpy="0 0 0" />
      <mass
        value="0.0855564935505709" />
      <inertia
        ixx="0.000130680921242486"
        ixy="2.80514667713823E-05"
        ixz="-4.43612197682304E-08"
        iyy="6.72732085095452E-05"
        iyz="1.04250551958736E-06"
        izz="0.000113833677598239" />
    </inertial>
    <visual>
      <origin
        xyz="0 0 0"
        rpy="0 0 0" />
      <geometry>
        <mesh
          filename="./meshes/r_arm_pitch.STL" />
      </geometry>
      <material
        name="">
        <color
          rgba="1 1 1 1" />
      </material>
    </visual>
    <collision>
      <origin
        xyz="0 0 0"
        rpy="0 0 0" />
      <geometry>
        <mesh
          filename="./meshes/r_arm_pitch.STL" />
      </geometry>
    </collision>
  </link>
  <joint
    name="r_arm_pitch"
    type="continuous">
    <origin
      xyz="-0.0174998525199999 -0.126 0.3145"
      rpy="0 0 0" />
    <parent
      link="base_link" />
    <child
      link="r_arm_pitch" />
    <axis
      xyz="0 -1 0" />
  </joint>
  <link
    name="r_arm_roll">
    <inertial>
      <origin
        xyz="-0.0357371168973825 -0.000637394797891544 -0.00293587513361748"
        rpy="0 0 0" />
      <mass
        value="0.24385908133804" />
      <inertia
        ixx="0.000128360143073782"
        ixy="-6.10295800980191E-06"
        ixz="-1.0476390047817E-05"
        iyy="0.000190119367974024"
        iyz="-1.10726166060552E-06"
        izz="0.000178903821203388" />
    </inertial>
    <visual>
      <origin
        xyz="0 0 0"
        rpy="0 0 0" />
      <geometry>
        <mesh
          filename="./meshes/r_arm_roll.STL" />
      </geometry>
      <material
        name="">
        <color
          rgba="1 1 1 1" />
      </material>
    </visual>
    <collision>
      <origin
        xyz="0 0 0"
        rpy="0 0 0" />
      <geometry>
        <mesh
          filename="./meshes/r_arm_roll.STL" />
      </geometry>
    </collision>
  </link>
  <joint
    name="r_arm_roll"
    type="continuous">
    <origin
      xyz="0.0638750000000006 -0.138475 0"
      rpy="0 0 0" />
    <parent
      link="r_arm_pitch" />
    <child
      link="r_arm_roll" />
    <axis
      xyz="-1 0 0" />
  </joint>
  <link
    name="r_arm_yaw">
    <inertial>
      <origin
        xyz="-0.000194980244391281 0.00223075394549077 -0.0832363148203375"
        rpy="0 0 0" />
      <mass
        value="0.231645950350007" />
      <inertia
        ixx="7.15747672025054E-05"
        ixy="7.20299540431296E-07"
        ixz="1.30045936565256E-07"
        iyy="0.00011606243891087"
        iyz="3.24540546737595E-06"
        izz="0.000102450220317482" />
    </inertial>
    <visual>
      <origin
        xyz="0 0 0"
        rpy="0 0 0" />
      <geometry>
        <mesh
          filename="./meshes/r_arm_yaw.STL" />
      </geometry>
      <material
        name="">
        <color
          rgba="1 1 1 1" />
      </material>
    </visual>
    <collision>
      <origin
        xyz="0 0 0"
        rpy="0 0 0" />
      <geometry>
        <mesh
          filename="./meshes/r_arm_yaw.STL" />
      </geometry>
    </collision>
  </link>
  <joint
    name="r_arm_yaw"
    type="continuous">
    <origin
      xyz="-0.0436749999999998 0 -0.0497499999999998"
      rpy="0 0 0" />
    <parent
      link="r_arm_roll" />
    <child
      link="r_arm_yaw" />
    <axis
      xyz="0 0 -1" />
  </joint>
  <link
    name="r_forearm_pitch">
    <inertial>
      <origin
        xyz="7.1803206297405E-09 -0.0235362732742576 -0.0656063288648233"
        rpy="0 0 0" />
      <mass
        value="0.082246913288193" />
      <inertia
        ixx="6.24507314646795E-05"
        ixy="-6.49100177668853E-12"
        ixz="3.722894079977E-12"
        iyy="5.81112784382459E-05"
        iyz="-1.22265695808957E-05"
        izz="6.2829761531135E-05" />
    </inertial>
    <visual>
      <origin
        xyz="0 0 0"
        rpy="0 0 0" />
      <geometry>
        <mesh
          filename="./meshes/r_forearm_pitch.STL" />
      </geometry>
      <material
        name="">
        <color
          rgba="1 1 1 1" />
      </material>
    </visual>
    <collision>
      <origin
        xyz="0 0 0"
        rpy="0 0 0" />
      <geometry>
        <mesh
          filename="./meshes/r_forearm_pitch.STL" />
      </geometry>
    </collision>
  </link>
  <joint
    name="r_forearm_pitch"
    type="continuous">
    <origin
      xyz="0 0.0302500000000003 -0.1377"
      rpy="0 0 0" />
    <parent
      link="r_arm_yaw" />
    <child
      link="r_forearm_pitch" />
    <axis
      xyz="0 -1 0" />
  </joint>
  <link
    name="r_forearm_yaw">
    <inertial>
      <origin
        xyz="-0.00399571587295026 -2.98574044384492E-05 -0.0656134416270269"
        rpy="0 0 0" />
      <mass
        value="0.156174142689454" />
      <inertia
        ixx="7.01871005830262E-05"
        ixy="1.62591814390724E-07"
        ixz="-4.54374332575993E-07"
        iyy="7.29165016216887E-05"
        iyz="7.3578843890099E-09"
        izz="6.87978478315219E-05" />
    </inertial>
    <visual>
      <origin
        xyz="0 0 0"
        rpy="0 0 0" />
      <geometry>
        <mesh
          filename="./meshes/r_forearm_yaw.STL" />
      </geometry>
      <material
        name="">
        <color
          rgba="1 1 1 1" />
      </material>
    </visual>
    <collision>
      <origin
        xyz="0 0 0"
        rpy="0 0 0" />
      <geometry>
        <mesh
          filename="./meshes/r_forearm_yaw.STL" />
      </geometry>
    </collision>
  </link>
  <joint
    name="r_forearm_yaw"
    type="continuous">
    <origin
      xyz="0 -0.0302500000000002 -0.0905499999999999"
      rpy="0 0 0" />
    <parent
      link="r_forearm_pitch" />
    <child
      link="r_forearm_yaw" />
    <axis
      xyz="0 0 1" />
  </joint>
  <link
    name="r_hand_roll">
    <inertial>
      <origin
        xyz="0.0166010838484253 -1.21914575379467E-07 -1.70258151493963E-07"
        rpy="0 0 0" />
      <mass
        value="0.00225080086305129" />
      <inertia
        ixx="1.93486938959377E-07"
        ixy="-1.35418412773771E-12"
        ixz="9.16670576988079E-13"
        iyy="1.36599402900294E-07"
        iyz="2.34295717847431E-12"
        izz="3.17250989285096E-07" />
    </inertial>
    <visual>
      <origin
        xyz="0 0 0"
        rpy="0 0 0" />
      <geometry>
        <mesh
          filename="./meshes/r_hand_roll.STL" />
      </geometry>
      <material
        name="">
        <color
          rgba="1 1 1 1" />
      </material>
    </visual>
    <collision>
      <origin
        xyz="0 0 0"
        rpy="0 0 0" />
      <geometry>
        <mesh
          filename="./meshes/r_hand_roll.STL" />
      </geometry>
    </collision>
  </link>
  <joint
    name="r_hand_roll"
    type="continuous">
    <origin
      xyz="-0.025322 0 -0.1575"
      rpy="0 0 0" />
    <parent
      link="r_forearm_yaw" />
    <child
      link="r_hand_roll" />
    <axis
      xyz="-1 0 0" />
  </joint>
  <link
    name="r_hand_pitch">
    <inertial>
      <origin
        xyz="0.00214702310217297 -7.83584216464961E-05 -0.0852818706514631"
        rpy="0 0 0" />
      <mass
        value="0.0535643416316945" />
      <inertia
        ixx="1.14121247582596E-05"
        ixy="1.76471512895622E-10"
        ixz="2.91544422581543E-07"
        iyy="1.11095803968485E-05"
        iyz="7.83308829804773E-10"
        izz="8.19797394000677E-06" />
    </inertial>
    <visual>
      <origin
        xyz="0 0 0"
        rpy="0 0 0" />
      <geometry>
        <mesh
          filename="./meshes/r_hand_pitch.STL" />
      </geometry>
      <material
        name="">
        <color
          rgba="1 1 1 1" />
      </material>
    </visual>
    <collision>
      <origin
        xyz="0 0 0"
        rpy="0 0 0" />
      <geometry>
        <mesh
          filename="./meshes/r_hand_pitch.STL" />
      </geometry>
    </collision>
  </link>
  <joint
    name="r_hand_pitch"
    type="continuous">
    <origin
      xyz="0.02137 0 0"
      rpy="0 0 0" />
    <parent
      link="r_hand_roll" />
    <child
      link="r_hand_pitch" />
    <axis
      xyz="0 1 0" />
  </joint>
  <link
    name="r_r_arm_bar">
    <inertial>
      <origin
        xyz="-0.00554151967108991 0.00107110730201643 8.01148413552277E-05"
        rpy="0 0 0" />
      <mass
        value="0.000933425431007405" />
      <inertia
        ixx="1.38437799892514E-08"
        ixy="-5.67273704047732E-09"
        ixz="5.77606254446982E-10"
        iyy="6.06871256289307E-08"
        iyz="8.20102664432749E-11"
        izz="5.37887825241999E-08" />
    </inertial>
    <visual>
      <origin
        xyz="0 0 0"
        rpy="0 0 0" />
      <geometry>
        <mesh
          filename="./meshes/r_r_arm_bar.STL" />
      </geometry>
      <material
        name="">
        <color
          rgba="1 1 1 1" />
      </material>
    </visual>
    <collision>
      <origin
        xyz="0 0 0"
        rpy="0 0 0" />
      <geometry>
        <mesh
          filename="./meshes/r_r_arm_bar.STL" />
      </geometry>
    </collision>
  </link>
  <joint
    name="r_r_arm_bar"
    type="continuous">
    <origin
      xyz="0.0112999999984239 -0.024140000000002 -0.0759999999999971"
      rpy="0 0 0" />
    <parent
      link="r_forearm_yaw" />
    <child
      link="r_r_arm_bar" />
    <axis
      xyz="0 1 0" />
  </joint>
  <link
    name="r_r_arm_tendon">
    <inertial>
      <origin
        xyz="-0.00765635531259815 0.000132036112088063 -0.0409092469907192"
        rpy="0 0 0" />
      <mass
        value="0.00373178797597326" />
      <inertia
        ixx="2.52754726727089E-06"
        ixy="7.66038091816824E-10"
        ixz="-4.64401938883845E-07"
        iyy="2.64294079486177E-06"
        iyz="4.31244533041838E-09"
        izz="1.33020958334864E-07" />
    </inertial>
    <visual>
      <origin
        xyz="0 0 0"
        rpy="0 0 0" />
      <geometry>
        <mesh
          filename="./meshes/r_r_arm_tendon.STL" />
      </geometry>
      <material
        name="">
        <color
          rgba="1 1 1 1" />
      </material>
    </visual>
    <collision>
      <origin
        xyz="0 0 0"
        rpy="0 0 0" />
      <geometry>
        <mesh
          filename="./meshes/r_r_arm_tendon.STL" />
      </geometry>
    </collision>
  </link>
  <joint
    name="r_r_arm_tendon"
    type="continuous">
    <origin
      xyz="-0.0159983282022835 -0.0040000013363603 0.000231289282113974"
      rpy="0 0 0" />
    <parent
      link="r_r_arm_bar" />
    <child
      link="r_r_arm_tendon" />
    <axis
      xyz="0 1 0" />
  </joint>
  <link
    name="r_l_arm_bar">
    <inertial>
      <origin
        xyz="-0.00554152066507212 -0.00107110729779245 8.00460209587489E-05"
        rpy="0 0 0" />
      <mass
        value="0.000933425428650283" />
      <inertia
        ixx="1.38437660740365E-08"
        ixy="5.67273800803533E-09"
        ixz="5.77125012060783E-10"
        iyy="6.06871256776918E-08"
        iyz="-8.19431480269537E-11"
        izz="5.37887964707832E-08" />
    </inertial>
    <visual>
      <origin
        xyz="0 0 0"
        rpy="0 0 0" />
      <geometry>
        <mesh
          filename="./meshes/r_l_arm_bar.STL" />
      </geometry>
      <material
        name="">
        <color
          rgba="1 1 1 1" />
      </material>
    </visual>
    <collision>
      <origin
        xyz="0 0 0"
        rpy="0 0 0" />
      <geometry>
        <mesh
          filename="./meshes/r_l_arm_bar.STL" />
      </geometry>
    </collision>
  </link>
  <joint
    name="r_l_arm_bar"
    type="continuous">
    <origin
      xyz="0.0113000000048921 0.024139999999997 -0.1145"
      rpy="0 0 0" />
    <parent
      link="r_forearm_yaw" />
    <child
      link="r_l_arm_bar" />
    <axis
      xyz="0 -1 0" />
  </joint>
  <link
    name="r_l_arm_tendon">
    <inertial>
      <origin
        xyz="-0.00762999220333973 -0.000169588775282475 -0.0214971867253593"
        rpy="0 0 0" />
      <mass
        value="0.0026624084343365" />
      <inertia
        ixx="5.94886471341227E-07"
        ixy="-9.09725188142654E-10"
        ixz="-1.96376428049484E-07"
        iyy="6.92975761839731E-07"
        iyz="-1.78984774648677E-09"
        izz="1.1095058280343E-07" />
    </inertial>
    <visual>
      <origin
        xyz="0 0 0"
        rpy="0 0 0" />
      <geometry>
        <mesh
          filename="./meshes/r_l_arm_tendon.STL" />
      </geometry>
      <material
        name="">
        <color
          rgba="1 1 1 1" />
      </material>
    </visual>
    <collision>
      <origin
        xyz="0 0 0"
        rpy="0 0 0" />
      <geometry>
        <mesh
          filename="./meshes/r_l_arm_tendon.STL" />
      </geometry>
    </collision>
  </link>
  <joint
    name="r_l_arm_tendon"
    type="continuous">
    <origin
      xyz="-0.0159983310229197 0.00400002806712421 0.000231094095741222"
      rpy="0 0 0" />
    <parent
      link="r_l_arm_bar" />
    <child
      link="r_l_arm_tendon" />
    <axis
      xyz="0 -1 0" />
  </joint>
  <link
    name="real_camera_link">
    <inertial>
      <origin
        xyz="-0.00921266315655753 -0.00134236481905095 -0.000223201290186881"
        rpy="0 0 0" />
      <mass
        value="0.0173287679990781" />
      <inertia
        ixx="1.14349973374258E-05"
        ixy="-1.05355726979727E-07"
        ixz="-1.05868132715497E-08"
        iyy="9.5531115778752E-07"
        iyz="-1.61190264385732E-08"
        izz="1.07055967101248E-05" />
    </inertial>
    <visual>
      <origin
        xyz="0 0 0"
        rpy="0 0 0" />
      <geometry>
        <mesh
          filename="./meshes/real_camera_link.STL" />
      </geometry>
      <material
        name="">
        <color
          rgba="0.8 0.2 0.2 1" />
      </material>
    </visual>
    <collision>
      <origin
        xyz="0 0 0"
        rpy="0 0 0" />
      <geometry>
        <mesh
          filename="./meshes/real_camera_link.STL" />
      </geometry>
    </collision>
  </link>
  <joint
    name="camera_joint"
    type="fixed">
    <origin
      xyz="0.078507 0.0026635 0.47328"
      rpy="0 0.61087 0" />
    <parent
      link="base_link" />
    <child
      link="real_camera_link" />
    <axis
      xyz="0 0 0" />
  </joint>
</robot>
